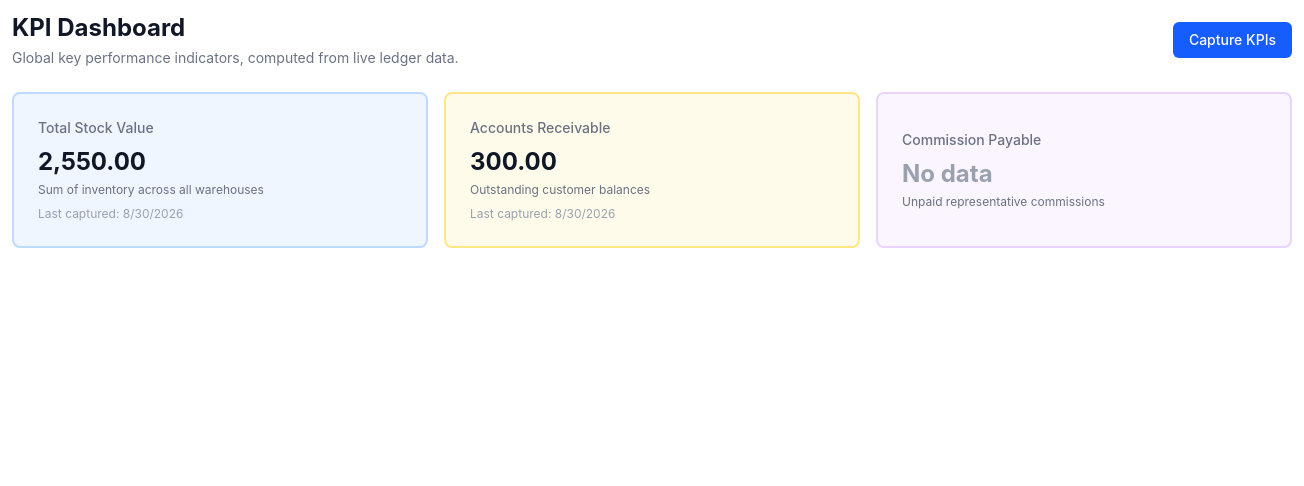
Test case: KpiDashboardPage › hides history panel when card is clicked again
Click the heading "Total Stock Value": click(96, 128) x1=38 y1=119 x2=154 y2=136
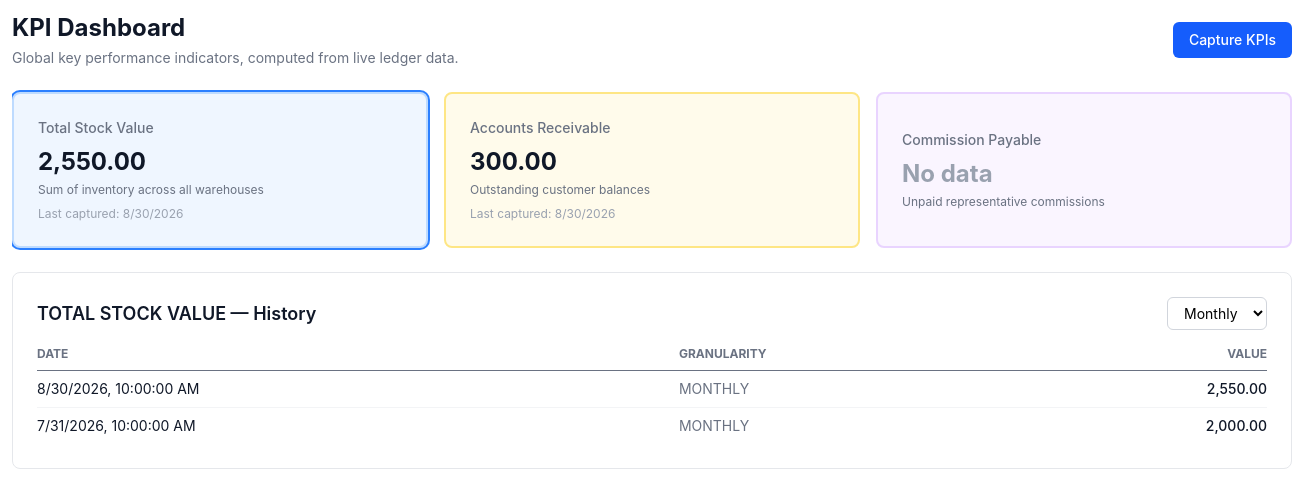
Now the heading "TOTAL STOCK VALUE — History" is shown, box x1=37 y1=300 x2=316 y2=328
Click the heading "Total Stock Value": click(96, 128) x1=38 y1=119 x2=154 y2=136
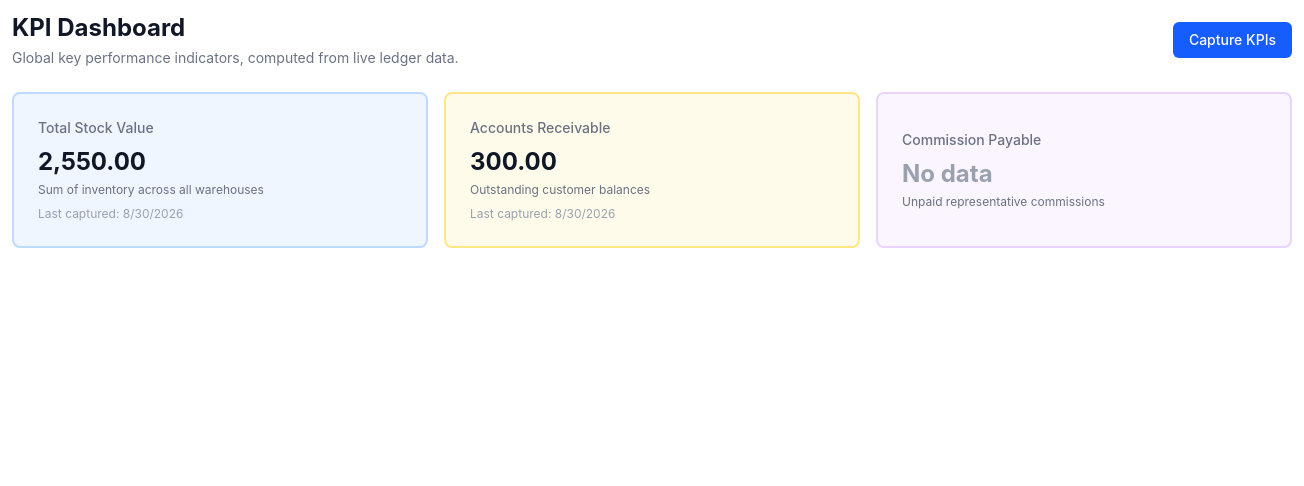
Now the heading "TOTAL STOCK VALUE — History" is gone
